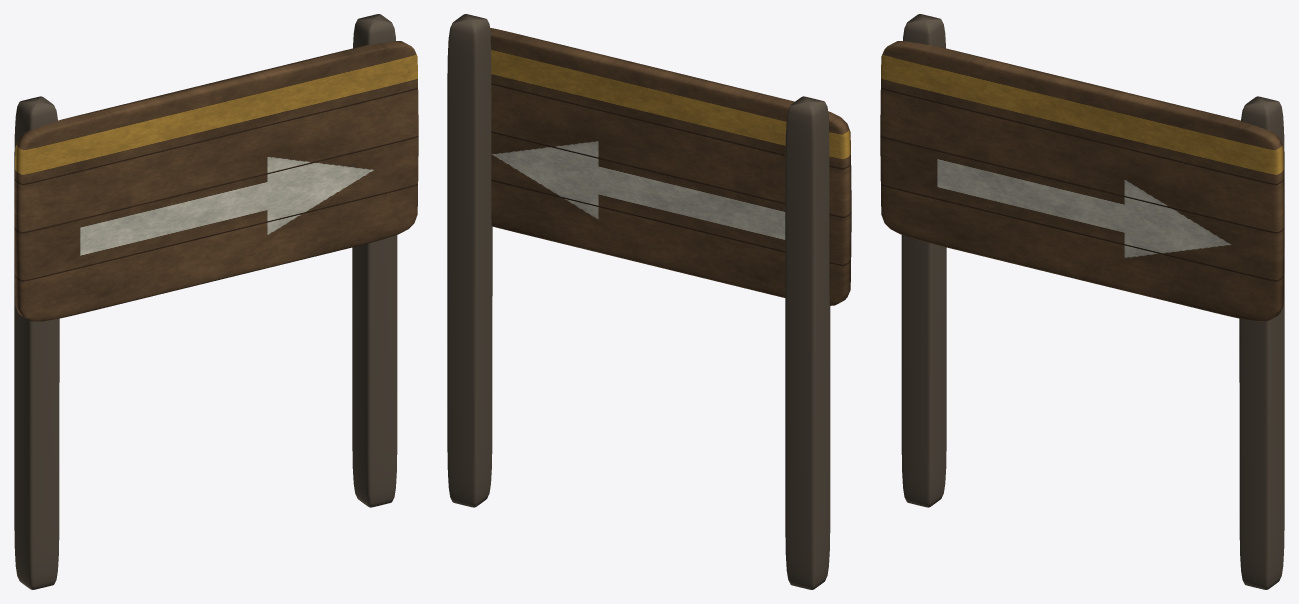
Rendered from trail_sign.glb.
3 renders of one model, left to right at view 1: azimuth 30°, elevation 25°; view 2: azimuth 150°, elevation 25°; view 3: azimuth 330°, elevation 25°, orthographic.
Parts seen in each view (by area): view 1: trail_sign; view 2: trail_sign; view 3: trail_sign.
Boxes of the visible parts, x1,y1,x2,y2 form: trail_sign: (14,14,418,589); trail_sign: (447,14,851,589); trail_sign: (880,14,1284,589).
Size of the model in its own units: 1.3 by 1.5 by 0.135.
Materials: 2 (2 with a texture image).
